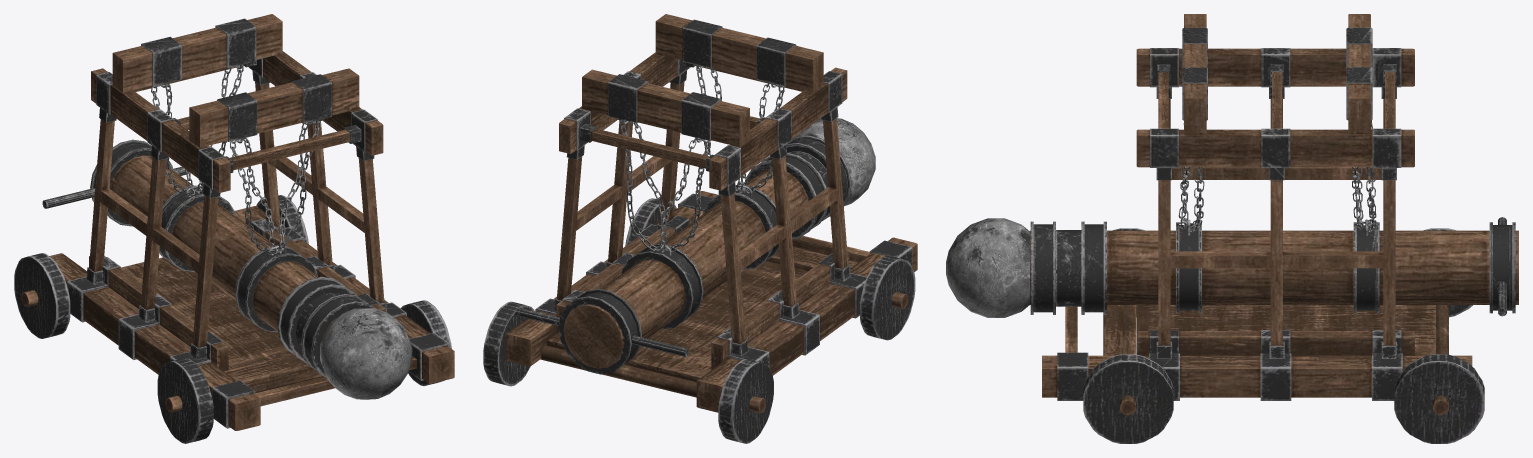
File: ram.glb
The picture shows the model from 3 angles, left to right: view 1: azimuth 30°, elevation 25°; view 2: azimuth 150°, elevation 25°; view 3: azimuth 270°, elevation 25°; orthographic projection. The views are drawn at different scales.
Visible parts, largest first — view 1: defaultMaterial; view 2: defaultMaterial; view 3: defaultMaterial.
Boxes of the visible parts, x1,y1,x2,y2 form: defaultMaterial: (14,14,454,443); defaultMaterial: (483,14,917,443); defaultMaterial: (946,14,1518,443).
Size of the model in its own units: 2.97 by 3.1 by 5.
1 material, 1 textured.
